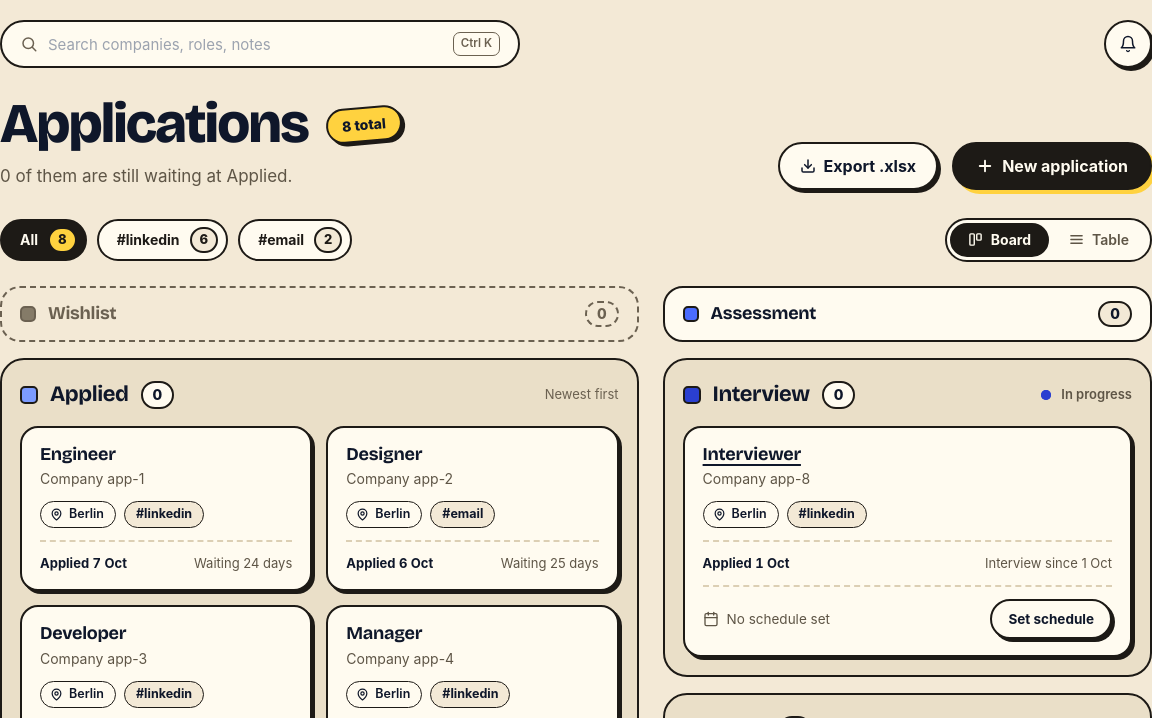
Scenario: Applications list › filters cards from a source chip without changing the other chip counts
The width and height of the screenshot is (1152, 718).
Check: the link "Engineer" is shown, box [20,426,312,591]
Check: the button "#linkedin 6" is shown, box [97,218,228,260]
Click the button "#email 2" at (295, 240), box [238,218,352,260]
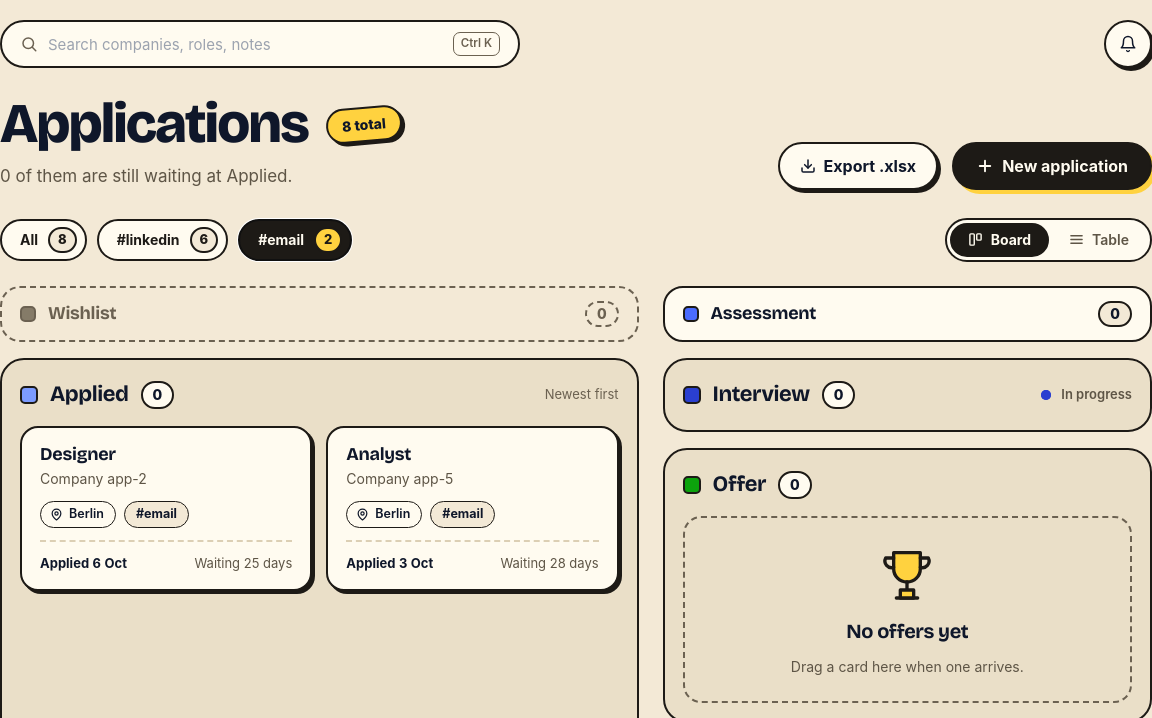
Check: the link "Designer" is shown, box [20,426,312,591]
Check: the link "Engineer" is gone
